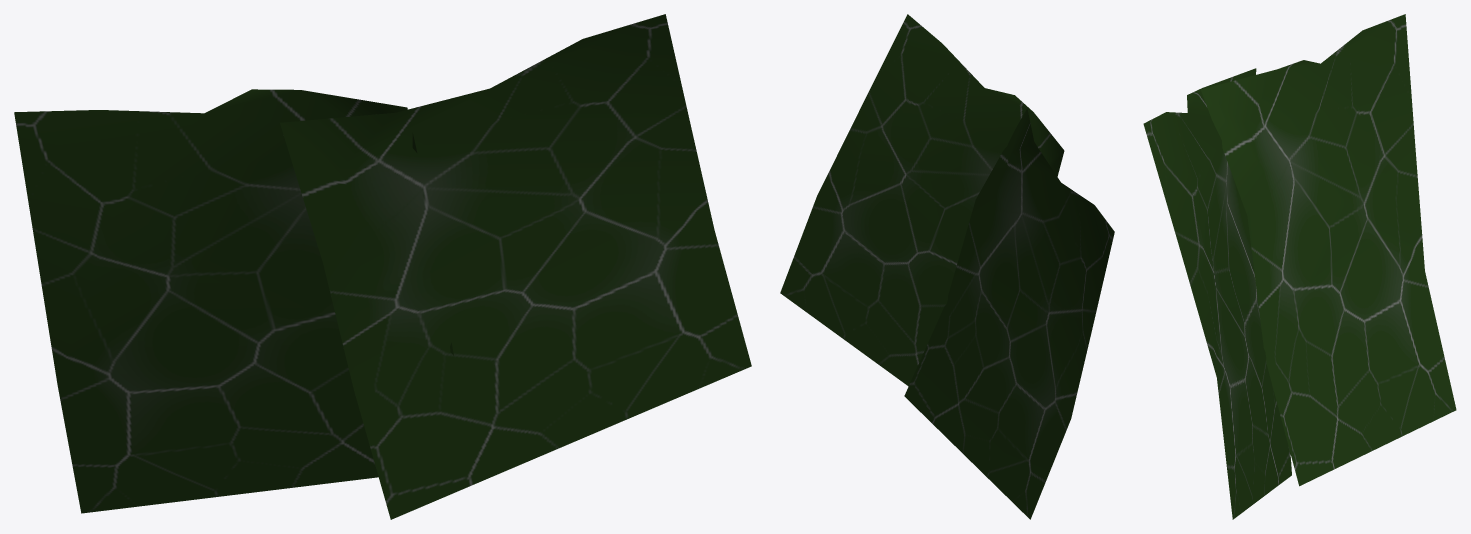
File: seaweed.fbx
3 renders of one model, left to right at view 1: azimuth 30°, elevation 25°; view 2: azimuth 150°, elevation 25°; view 3: azimuth 270°, elevation 25°, orthographic. The views are drawn at different scales.
Visible parts, largest first — view 1: polySurface2134; view 2: polySurface2134; view 3: polySurface2134.
Boxes of the visible parts, x1=… form: polySurface2134: x1=14, y1=14, x2=751, y2=519; polySurface2134: x1=780, y1=14, x2=1114, y2=519; polySurface2134: x1=1143, y1=14, x2=1456, y2=519.
Size of the model in its own units: 28.29 by 23.57 by 15.31.
